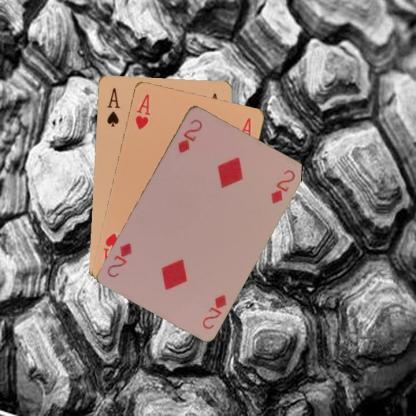2d: (199, 291, 228, 331), (174, 116, 204, 154)
Ah: (132, 90, 152, 130)
As: (104, 85, 120, 128)
